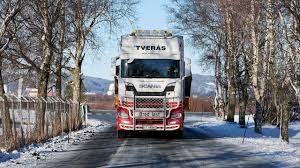truck: (114, 29, 191, 137)
